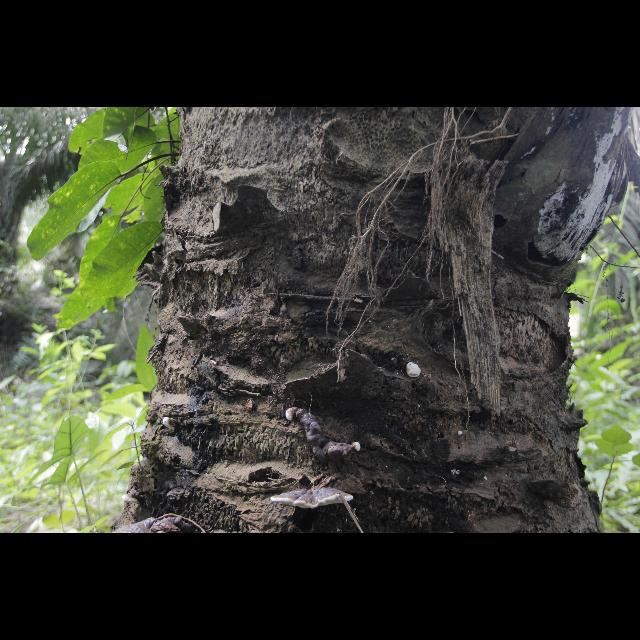ganoderma: (299, 408, 353, 465), (271, 487, 355, 511), (114, 518, 193, 535), (123, 492, 145, 506)
primordium: (406, 363, 422, 379), (164, 417, 179, 431), (286, 408, 299, 423), (353, 442, 362, 454), (459, 431, 464, 437)
